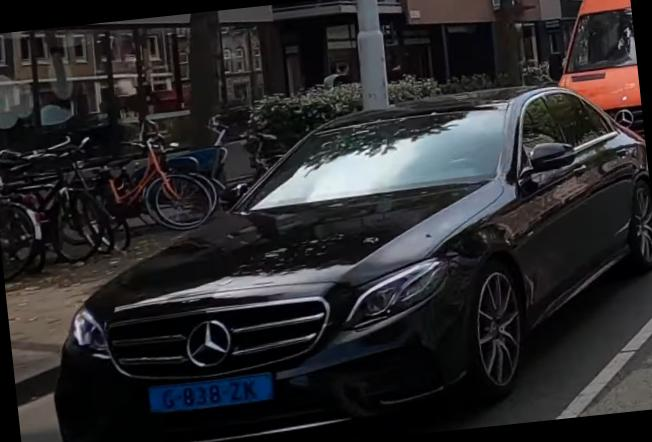license-plate: (149, 372, 277, 415)
